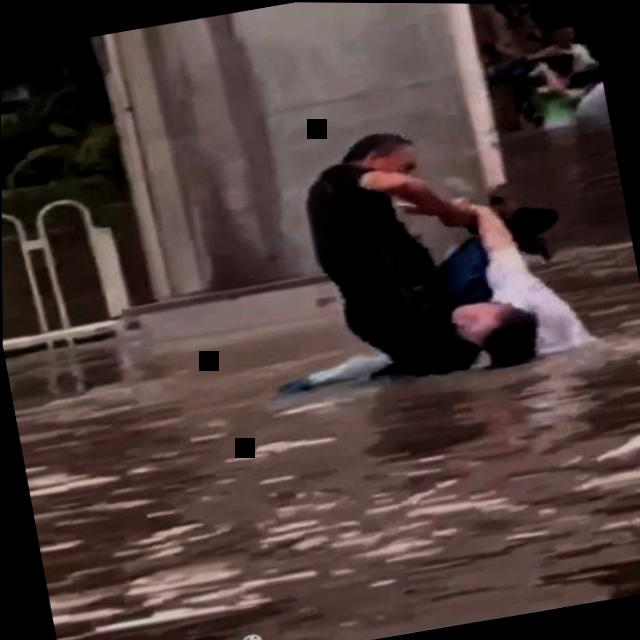Fall-Detected: (412, 172, 625, 383)
